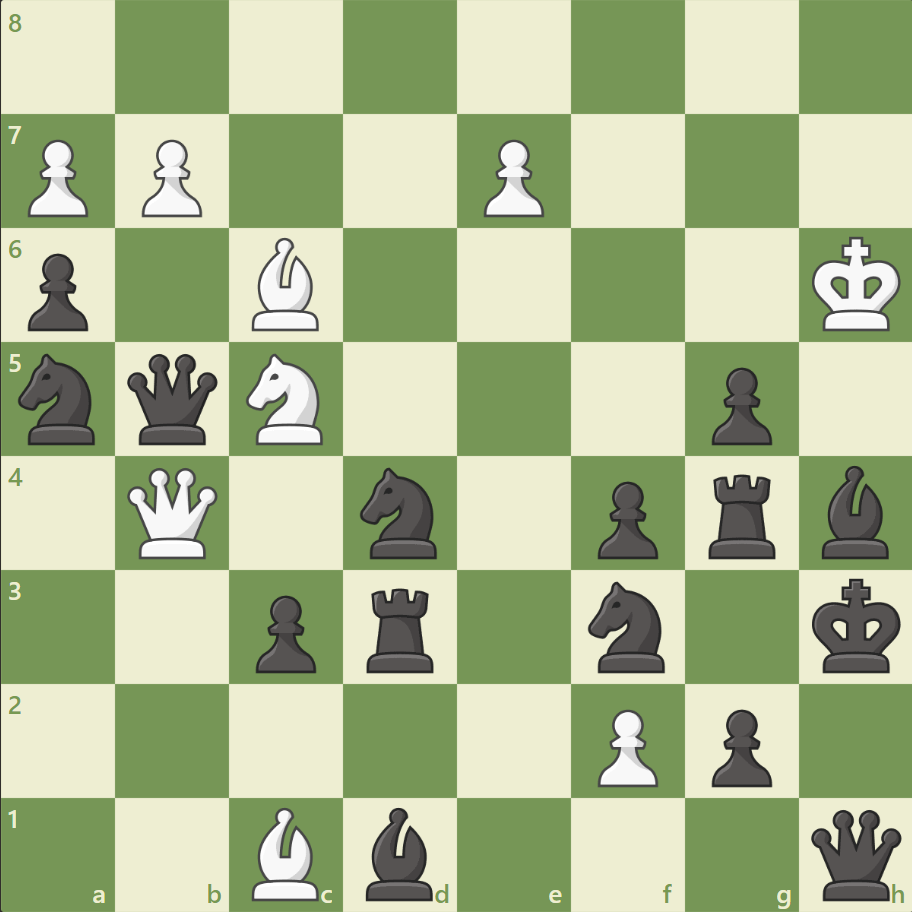B: (244, 233, 328, 336), (244, 801, 328, 904)
K: (806, 231, 906, 339)
N: (238, 348, 335, 450)
P: (20, 132, 95, 223), (133, 132, 208, 223), (474, 132, 549, 223), (588, 700, 662, 791)
Q: (124, 463, 223, 562)
b: (812, 460, 896, 563), (358, 801, 442, 904)
k: (806, 571, 906, 679)
n: (351, 461, 449, 564), (11, 348, 108, 450), (579, 575, 676, 677)
p: (20, 246, 95, 337), (701, 359, 776, 450), (247, 586, 322, 677), (701, 700, 776, 791), (588, 473, 662, 564)
q: (124, 349, 223, 449), (805, 804, 904, 903)
r: (700, 466, 783, 563), (360, 579, 442, 676)
